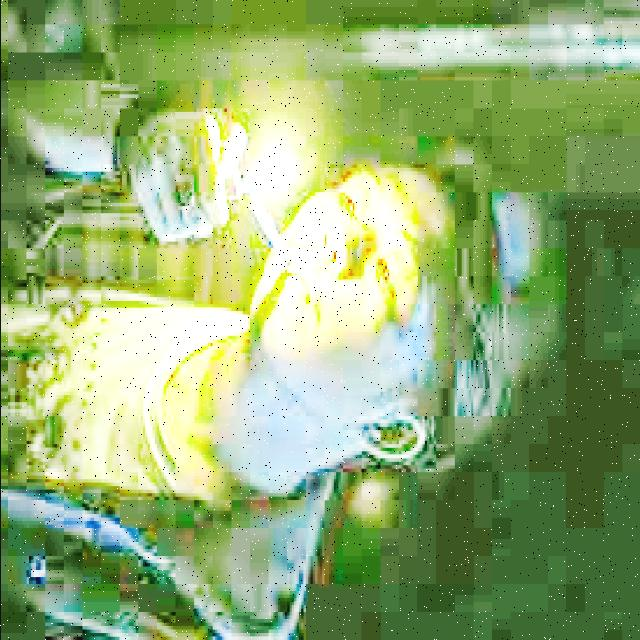api: (241, 148, 295, 214)
